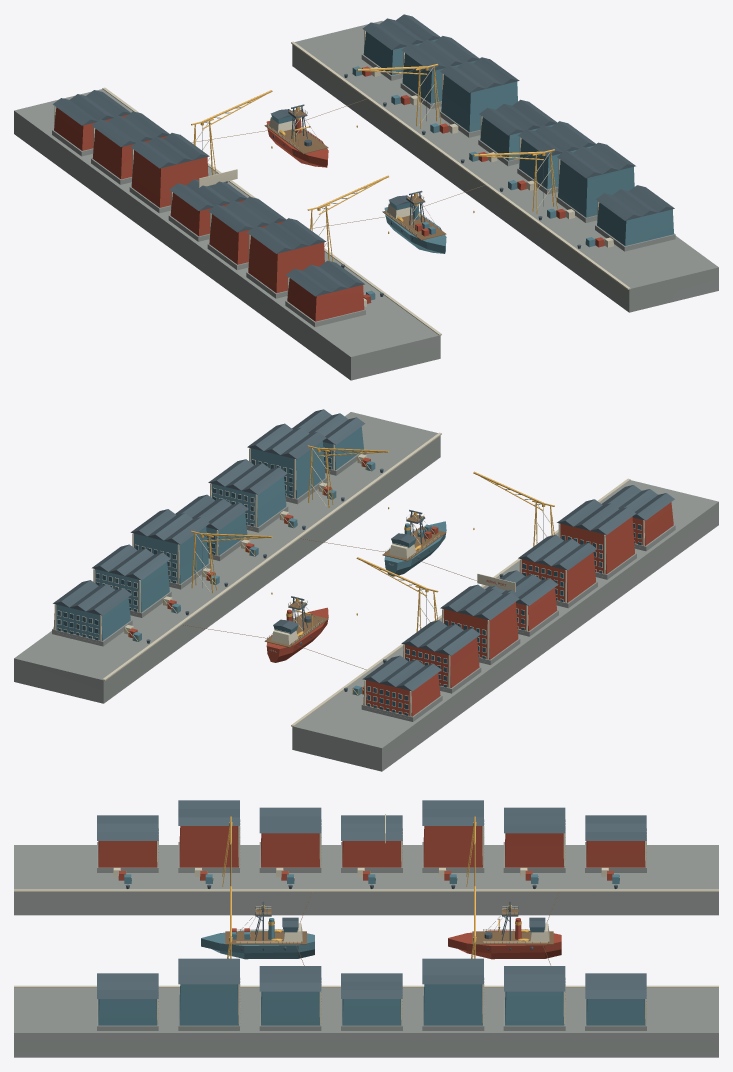
The model's file is harbor-3Ky8oUuN.glb.
3 renders of one model, top to bottom at view 1: azimuth 30°, elevation 25°; view 2: azimuth 150°, elevation 25°; view 3: azimuth 270°, elevation 25°, orthographic. The views are drawn at different scales.
Parts seen in each view (by area): view 1: Rebuilt_harbor_Paint_stone.004, Rebuilt_harbor_Paint_steel.004, Rebuilt_harbor_Paint_red.004, Rebuilt_harbor_Paint_blue.004, Rebuilt_harbor_Paint_ivory.004, Rebuilt_harbor_Paint_gold.004, Rebuilt_harbor_Paint_wood.004; view 2: Rebuilt_harbor_Paint_stone.004, Rebuilt_harbor_Paint_steel.004, Rebuilt_harbor_Paint_blue.004, Rebuilt_harbor_Paint_red.004, Rebuilt_harbor_Paint_ivory.004, Rebuilt_harbor_Paint_gold.004, Rebuilt_harbor_Paint_glass.004, Rebuilt_harbor_Paint_wood.004; view 3: Rebuilt_harbor_Paint_stone.004, Rebuilt_harbor_Paint_steel.004, Rebuilt_harbor_Paint_blue.004, Rebuilt_harbor_Paint_red.004, Rebuilt_harbor_Paint_ivory.004, Rebuilt_harbor_Paint_wood.004, Rebuilt_harbor_Paint_gold.004.
Part boxes in pixels (bbox=[...]): Rebuilt_harbor_Paint_stone.004: bbox=[14, 21, 718, 380]; Rebuilt_harbor_Paint_steel.004: bbox=[53, 14, 674, 296]; Rebuilt_harbor_Paint_red.004: bbox=[54, 66, 604, 321]; Rebuilt_harbor_Paint_blue.004: bbox=[271, 31, 673, 300]; Rebuilt_harbor_Paint_ivory.004: bbox=[54, 30, 630, 335]; Rebuilt_harbor_Paint_gold.004: bbox=[191, 64, 561, 261]; Rebuilt_harbor_Paint_wood.004: bbox=[191, 99, 484, 240]; Rebuilt_harbor_Paint_stone.004: bbox=[14, 412, 718, 771]; Rebuilt_harbor_Paint_steel.004: bbox=[53, 409, 674, 713]; Rebuilt_harbor_Paint_blue.004: bbox=[53, 426, 446, 695]; Rebuilt_harbor_Paint_red.004: bbox=[128, 457, 673, 716]; Rebuilt_harbor_Paint_ivory.004: bbox=[54, 432, 644, 726]; Rebuilt_harbor_Paint_gold.004: bbox=[124, 445, 554, 695]; Rebuilt_harbor_Paint_glass.004: bbox=[57, 450, 641, 715]; Rebuilt_harbor_Paint_wood.004: bbox=[183, 515, 476, 669]; Rebuilt_harbor_Paint_stone.004: bbox=[14, 819, 718, 1057]; Rebuilt_harbor_Paint_steel.004: bbox=[97, 800, 646, 998]; Rebuilt_harbor_Paint_blue.004: bbox=[98, 874, 645, 1025]; Rebuilt_harbor_Paint_red.004: bbox=[98, 826, 645, 959]; Rebuilt_harbor_Paint_ivory.004: bbox=[14, 814, 718, 1024]; Rebuilt_harbor_Paint_wood.004: bbox=[225, 892, 558, 965]; Rebuilt_harbor_Paint_gold.004: bbox=[126, 816, 608, 958].
Bounding box in the file's own units: 164 × 40.44 × 260.
